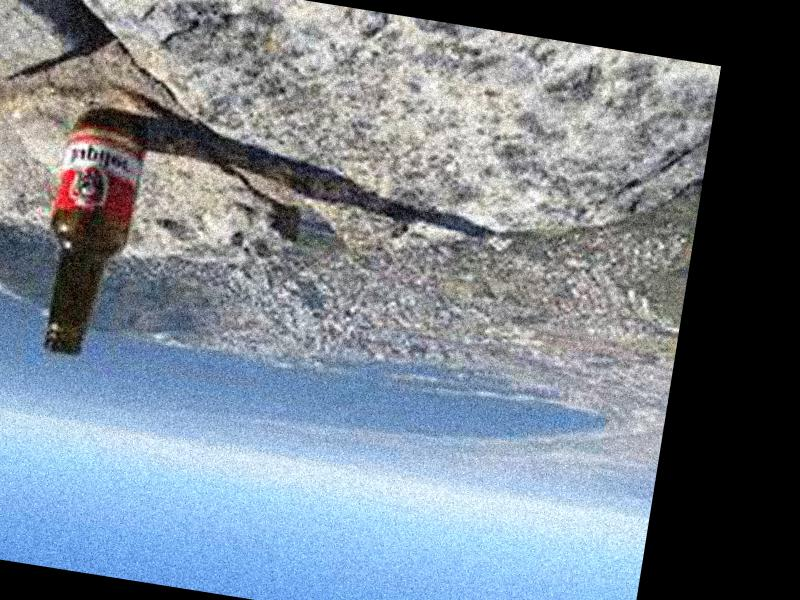Beer: (29, 112, 149, 363)
